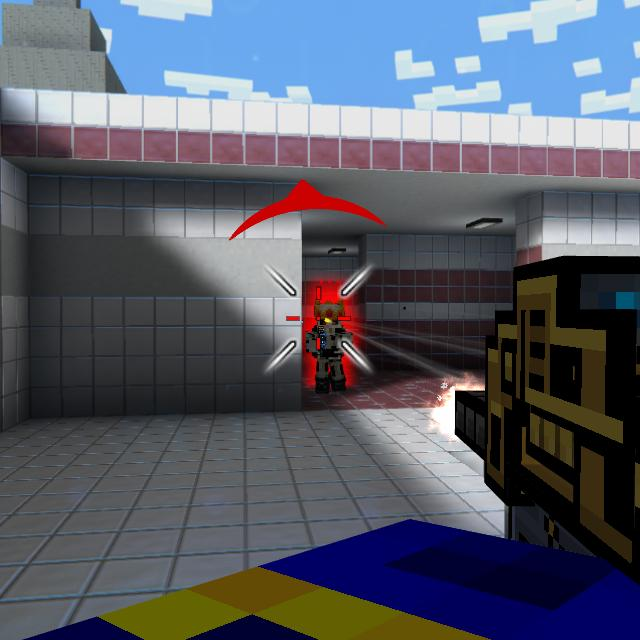Enemy: (305, 305, 355, 394)
